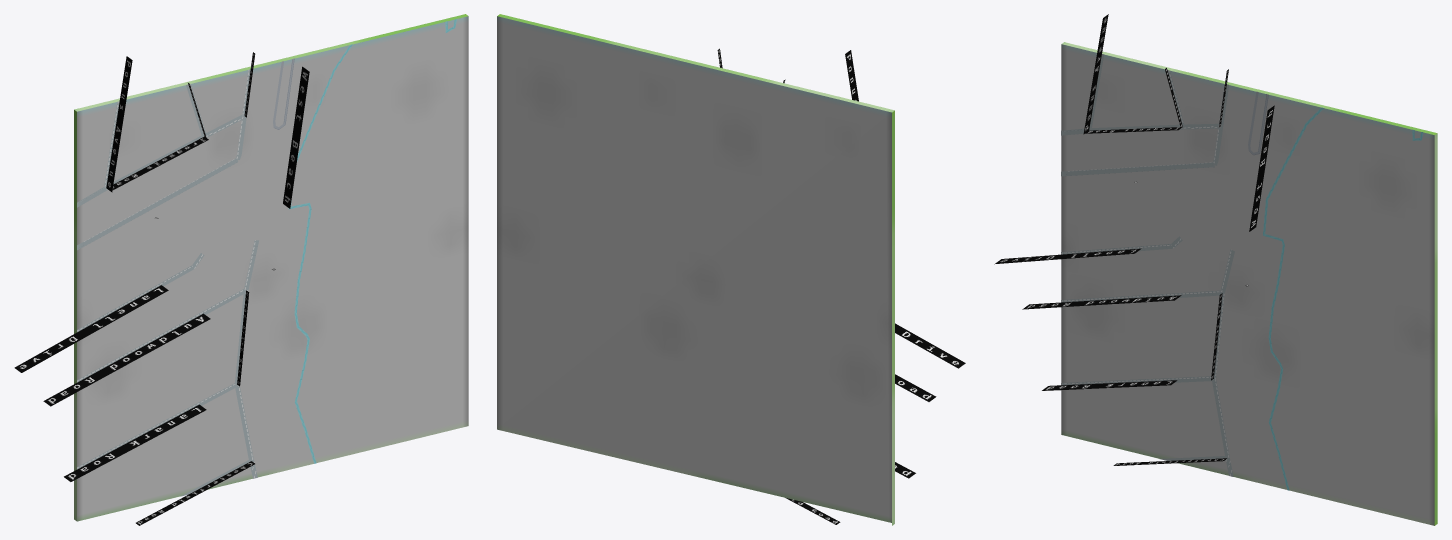
File: stamford24.gltf
3 views of the same model, side by side, from view 1: azimuth 30°, elevation 25°; view 2: azimuth 150°, elevation 25°; view 3: azimuth 330°, elevation 25° (orthographic). The views are drawn at different scales.
Parts seen in each view (by area): view 1: POLYGON, FONT, POLYLINE; view 2: POLYGON, FONT; view 3: POLYGON, POLYLINE, FONT.
Boxes of the visible parts, x1,y1,x2,y2 form: POLYGON: (74,14,468,521); FONT: (14,52,309,525); POLYLINE: (77,19,456,496); POLYGON: (497,14,894,525); FONT: (717,48,965,524); POLYGON: (1061,42,1437,525); POLYLINE: (1061,54,1423,490); FONT: (994,14,1274,465).
Bounding box in the file's own units: 709 × 699 × 29.
Materials: 3 (3 with a texture image).
